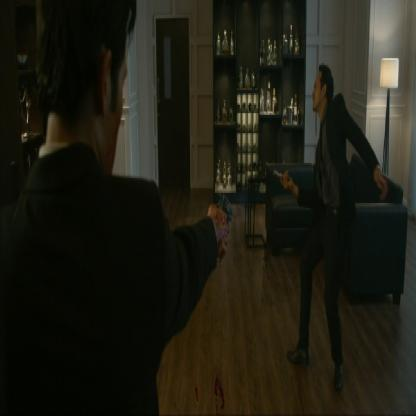Gun: (212, 185, 234, 261), (271, 163, 292, 188)
